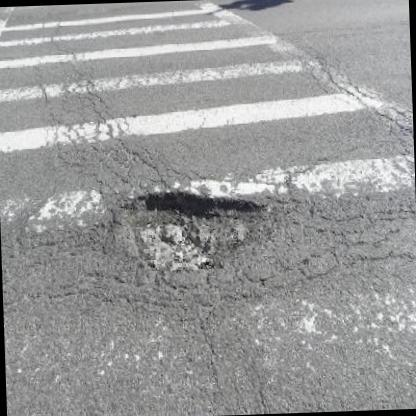pothole: (92, 184, 279, 280)
